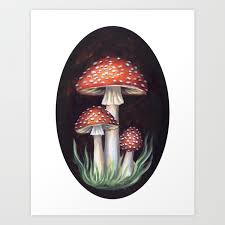Amanita muscaria: (74, 57, 148, 164), (72, 105, 119, 180), (121, 122, 141, 176)
